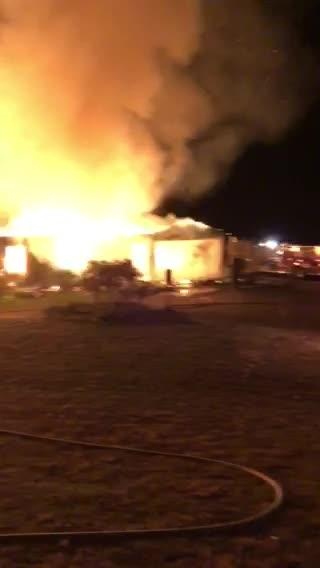Fire: (5, 115, 181, 276), (11, 11, 165, 99)
